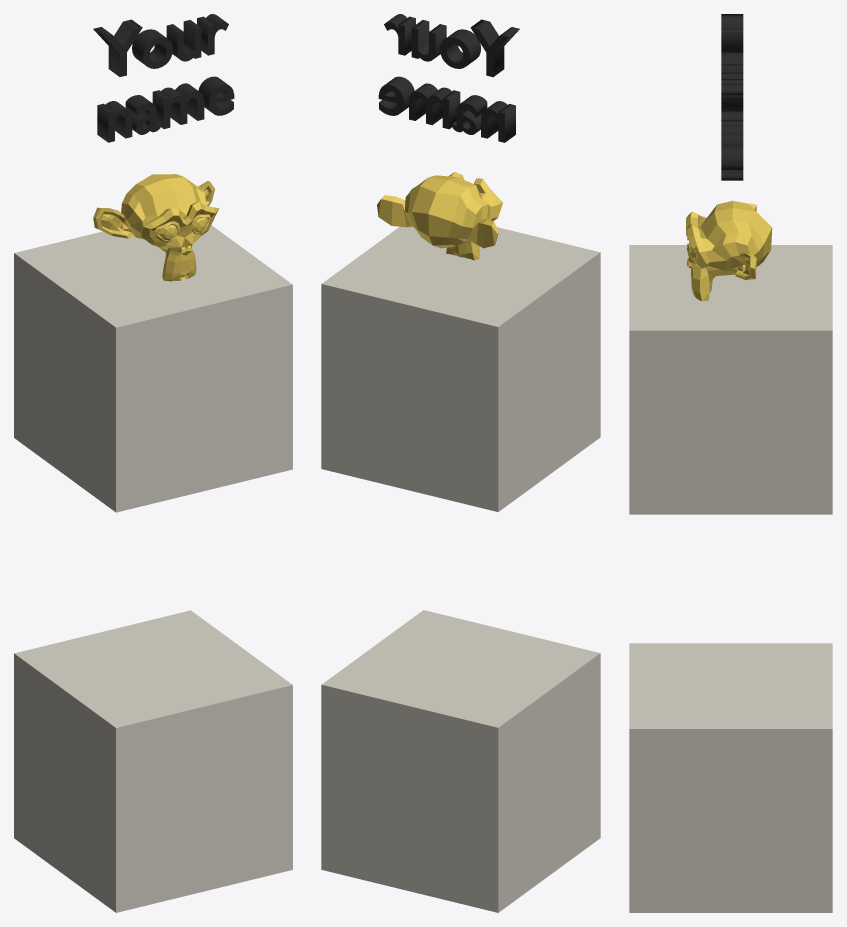
3 views of the same model, side by side, from view 1: azimuth 30°, elevation 25°; view 2: azimuth 150°, elevation 25°; view 3: azimuth 270°, elevation 25° (orthographic).
Parts seen in each view (by area): view 1: Cube.001, Cube, Text, Suzanne; view 2: Cube.001, Cube, Text, Suzanne; view 3: Cube.001, Cube, Suzanne, Text.
Boxes of the visible parts, x1,y1,x2,y2 form: Cube.001: (14, 610, 292, 912); Cube: (14, 225, 292, 512); Text: (93, 14, 234, 142); Suzanne: (93, 174, 219, 281); Cube.001: (321, 610, 600, 912); Cube: (321, 227, 600, 511); Text: (378, 14, 519, 142); Suzanne: (377, 172, 502, 260); Cube.001: (629, 643, 832, 912); Cube: (629, 245, 832, 514); Suzanne: (686, 200, 772, 301); Text: (721, 14, 743, 180).
Size of the model in its own units: 4 by 18.04 by 4.
